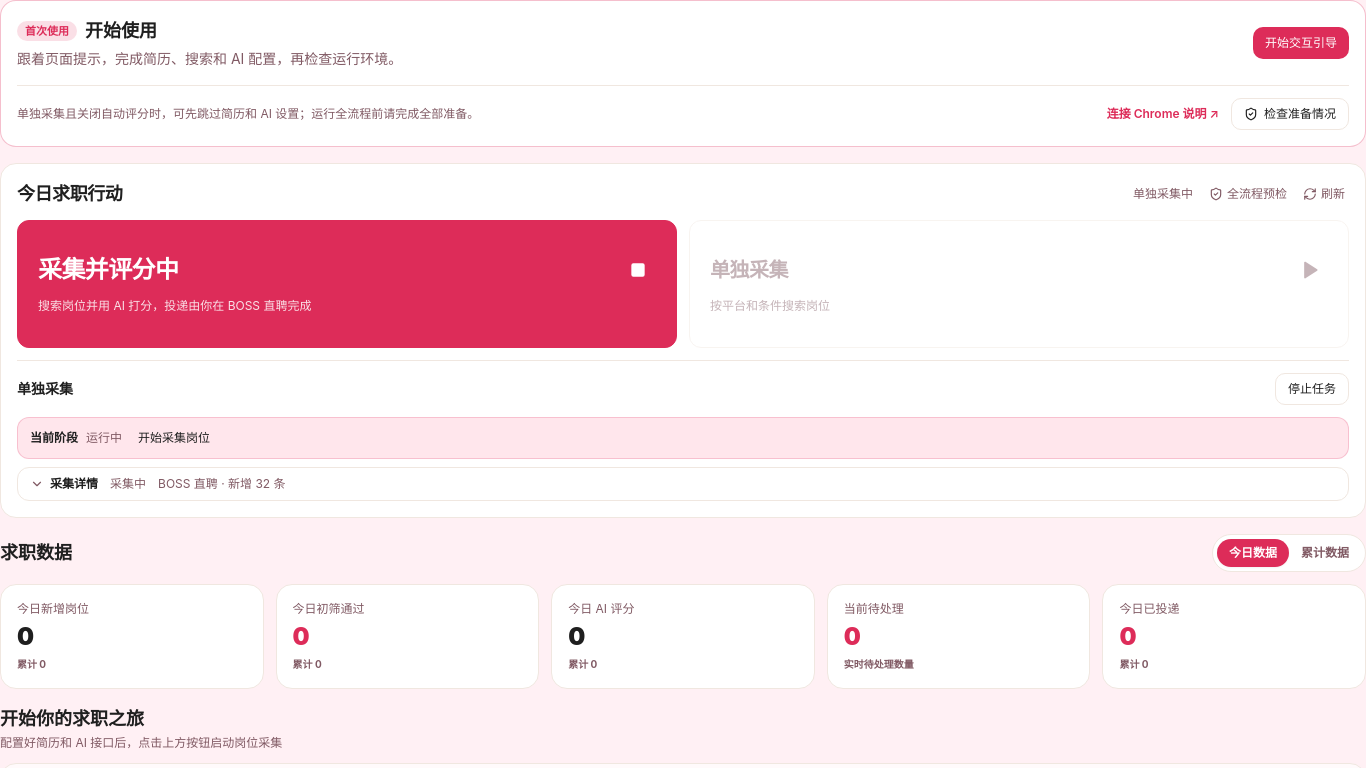
DashboardPage workbench task panel › keeps collection statistics in their proper scope (multiple platforms: false)
Expected: the element named "任务状态摘要" is shown, [30,430,210,445]
Expected: the text "BOSS 直聘 · 新增 32 条" is shown once, [158,476,286,492]
Click the text "采集详情".
click(64, 484)  # box [30,476,98,492]
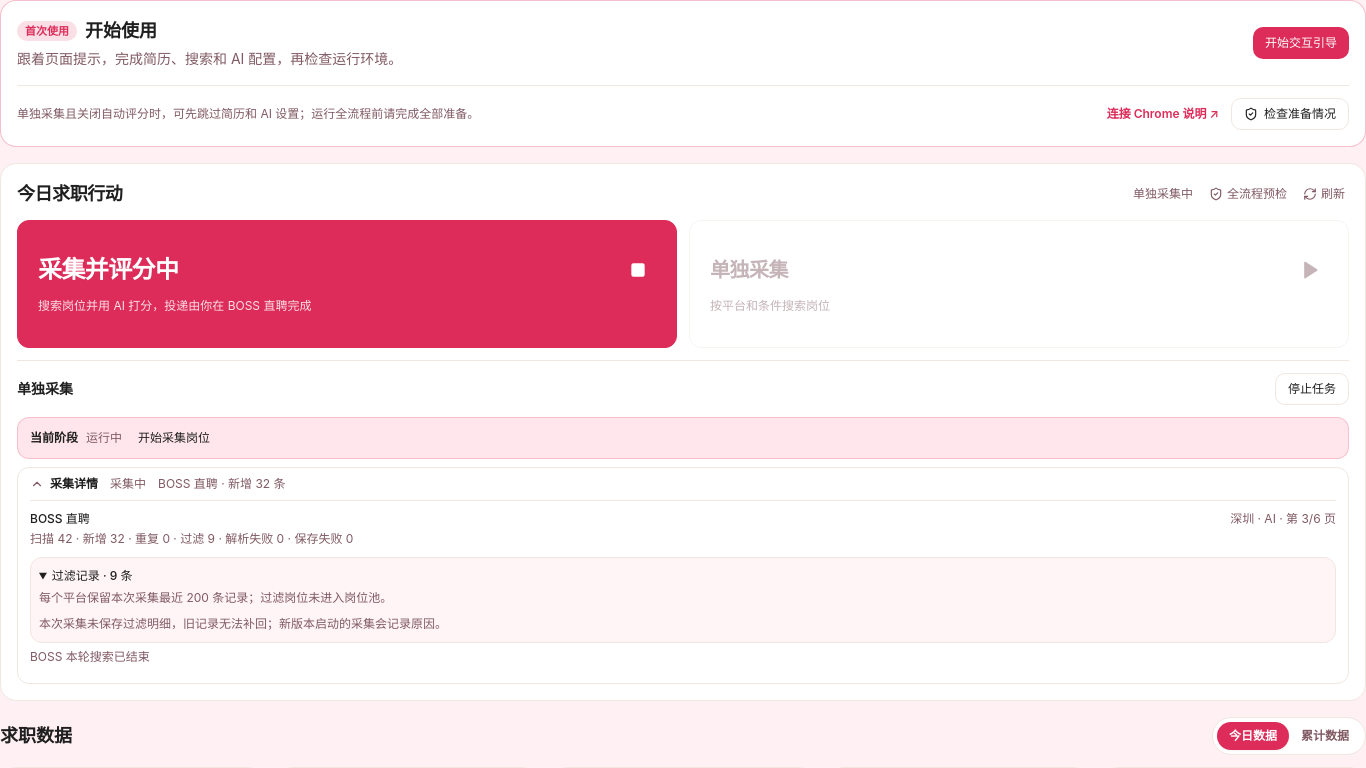
Expected: the text "BOSS 本轮搜索已结束" is shown once, [30,649,150,664]
Expected: the text "扫描 42 · 新增 32 · 重复 0 · 过滤 9 · 解析失败 0 · 保存失败 0" is shown once, [30,531,353,546]
